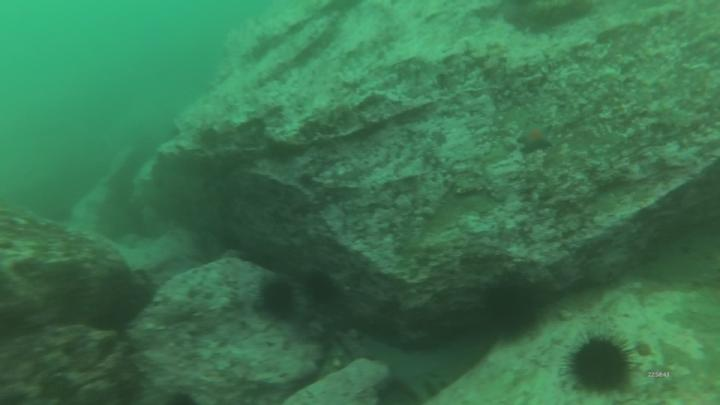holothurian: (521, 122, 552, 152)
starfish: (572, 339, 633, 391), (486, 292, 535, 340), (264, 282, 291, 316), (306, 276, 336, 301)
